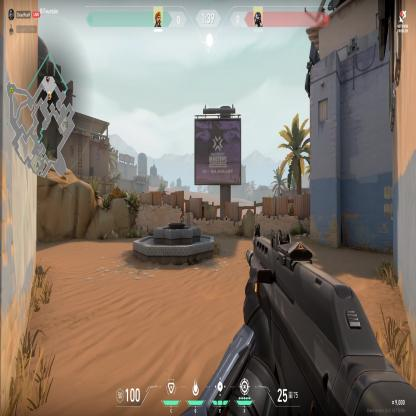enemy: (180, 209, 186, 223)
